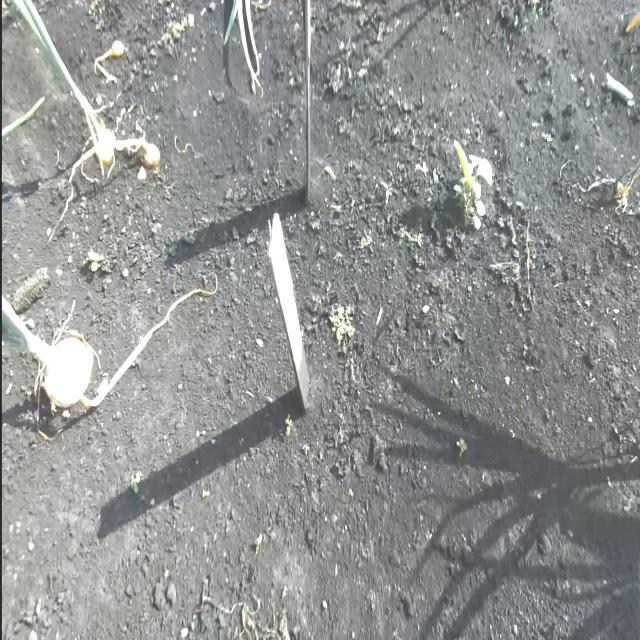onion: (42, 331, 91, 416)
